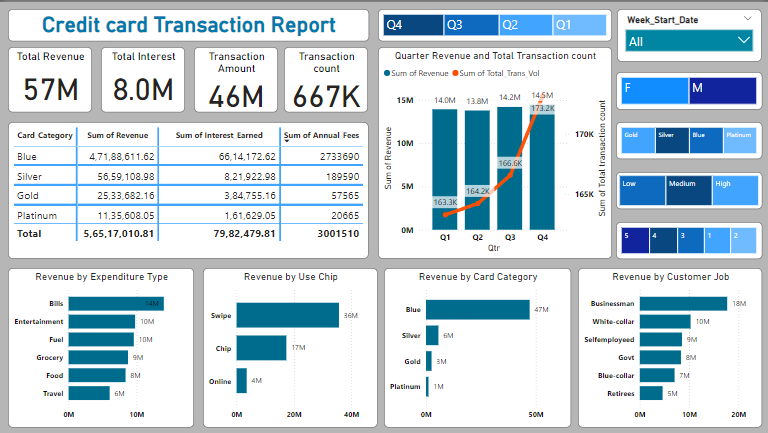

What the dashboard file says about the page in this screenshot:
{"tool":"powerbi","page":{"name":"Page 1","canvas":[1280,720],"ordinal":0},"visuals":[{"type":"textbox","title":"Credit card Transaction Report","box":[12.7,11.1,601.6,54],"z":0},{"type":"lineStackedColumnComboChart","title":"Quarter Revenue and Total Transaction count ","fields":{"Category":["credit_details.Qtr"],"Y":["Sum(credit_details.Revenue)"],"Y2":["Sum(credit_details.Total_Trans_Vol)"]},"box":[629.3,75.1,389.8,352.9],"z":1000},{"type":"barChart","title":"Revenue by Expenditure Type","fields":{"Category":["credit_details.Exp_Type"],"Y":["Sum(credit_details.Revenue)"]},"box":[13.4,443.3,310.4,265.7],"z":2000},{"type":"barChart","title":"Revenue by Use Chip","fields":{"Y":["Sum(credit_details.Revenue)"],"Category":["credit_details.Use_Chip"]},"box":[338.8,443.3,291,265.7],"z":3000},{"type":"barChart","title":"Revenue by Card Category","fields":{"Y":["Sum(credit_details.Revenue)"],"Category":["credit_details.Card_Category"]},"box":[640.3,443.3,311.9,265.7],"z":4000},{"type":"barChart","title":"Revenue by Customer Job","fields":{"Y":["Sum(credit_details.Revenue)"],"Category":["cust_detail.Customer_Job"]},"box":[962.7,443.3,307.5,265.7],"z":5000},{"type":"tableEx","fields":{"Values":["credit_details.Card_Category","Sum(credit_details.Revenue)","Sum(credit_details.Interest_Earned)","Sum(credit_details.Annual_Fees)"]},"box":[12.8,199.8,600.9,228.2],"z":6000},{"type":"actionButton","box":[0,0,100,40],"z":7000},{"type":"card","title":"Total Revenue","fields":{"Values":["Sum(credit_details.Revenue)"]},"box":[12.8,75.1,140.3,109],"z":8000},{"type":"card","title":"Total Interest","fields":{"Values":["Sum(credit_details.Interest_Earned)"]},"box":[168.7,75.1,140.3,109],"z":9000},{"type":"card","title":"Transaction Amount","fields":{"Values":["Sum(credit_details.Total_Trans_Amt)"]},"box":[323.1,75.1,140.3,109],"z":10000},{"type":"card","title":"Transaction count","fields":{"Values":["Sum(credit_details.Total_Trans_Vol)"]},"box":[473.4,75.1,140.3,109],"z":11000},{"type":"treemap","fields":{"Group":["credit_details.Qtr"],"Values":["Avg(credit_details.Client_Num)"]},"box":[629.3,11.3,389.8,53.9],"z":12000},{"type":"slicer","fields":{"Values":["credit_details.Week_Start_Date"]},"box":[1028.9,11.3,241.2,87.6],"z":13000},{"type":"treemap","fields":{"Group":["cust_detail.Gender"],"Values":["Avg(credit_details.Client_Num)"]},"box":[1026,117,243.6,62.7],"z":14000},{"type":"treemap","fields":{"Group":["cust_detail.IncomeGroup"],"Values":["Avg(credit_details.Client_Num)"]},"box":[1026.4,284,243.6,61.8],"z":15000},{"type":"treemap","fields":{"Values":["Avg(credit_details.Client_Num)"],"Group":["cust_detail.Cust_Satisfaction_Score"]},"box":[1026.4,366.4,243.6,61.8],"z":16000},{"type":"treemap","fields":{"Group":["credit_details.Card_Category"],"Values":["Avg(credit_details.Client_Num)"]},"box":[1026.4,200,243.6,61.8],"z":17000}]}

Visuals, with their boxes in screenshot pixels (x1, y1, x2, y2), scaled from the page's 1280x720 canvas onto the 768x433 screenshot:
"Credit card Transaction Report" textbox: [left=8, top=7, right=369, bottom=39]
"Quarter Revenue and Total Transaction count " lineStackedColumnComboChart: [left=378, top=45, right=611, bottom=257]
"Revenue by Expenditure Type" barChart: [left=8, top=267, right=194, bottom=426]
"Revenue by Use Chip" barChart: [left=203, top=267, right=378, bottom=426]
"Revenue by Card Category" barChart: [left=384, top=267, right=571, bottom=426]
"Revenue by Customer Job" barChart: [left=578, top=267, right=762, bottom=426]
tableEx - credit_details.Card_Category x Sum(credit_details.Revenue): [left=8, top=120, right=368, bottom=257]
actionButton: [left=0, top=0, right=60, bottom=24]
"Total Revenue" card: [left=8, top=45, right=92, bottom=111]
"Total Interest" card: [left=101, top=45, right=185, bottom=111]
"Transaction Amount" card: [left=194, top=45, right=278, bottom=111]
"Transaction count" card: [left=284, top=45, right=368, bottom=111]
treemap - credit_details.Qtr x Avg(credit_details.Client_Num): [left=378, top=7, right=611, bottom=39]
slicer - credit_details.Week_Start_Date: [left=617, top=7, right=762, bottom=59]
treemap - cust_detail.Gender x Avg(credit_details.Client_Num): [left=616, top=70, right=762, bottom=108]
treemap - cust_detail.IncomeGroup x Avg(credit_details.Client_Num): [left=616, top=171, right=762, bottom=208]
treemap - Avg(credit_details.Client_Num) x cust_detail.Cust_Satisfaction_Score: [left=616, top=220, right=762, bottom=258]
treemap - credit_details.Card_Category x Avg(credit_details.Client_Num): [left=616, top=120, right=762, bottom=157]
